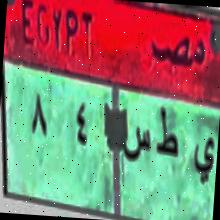4: (71, 98, 92, 158)
8: (27, 85, 50, 150)
Taa: (150, 108, 182, 175)
seen: (122, 122, 152, 170)
yaa: (187, 132, 217, 190)
